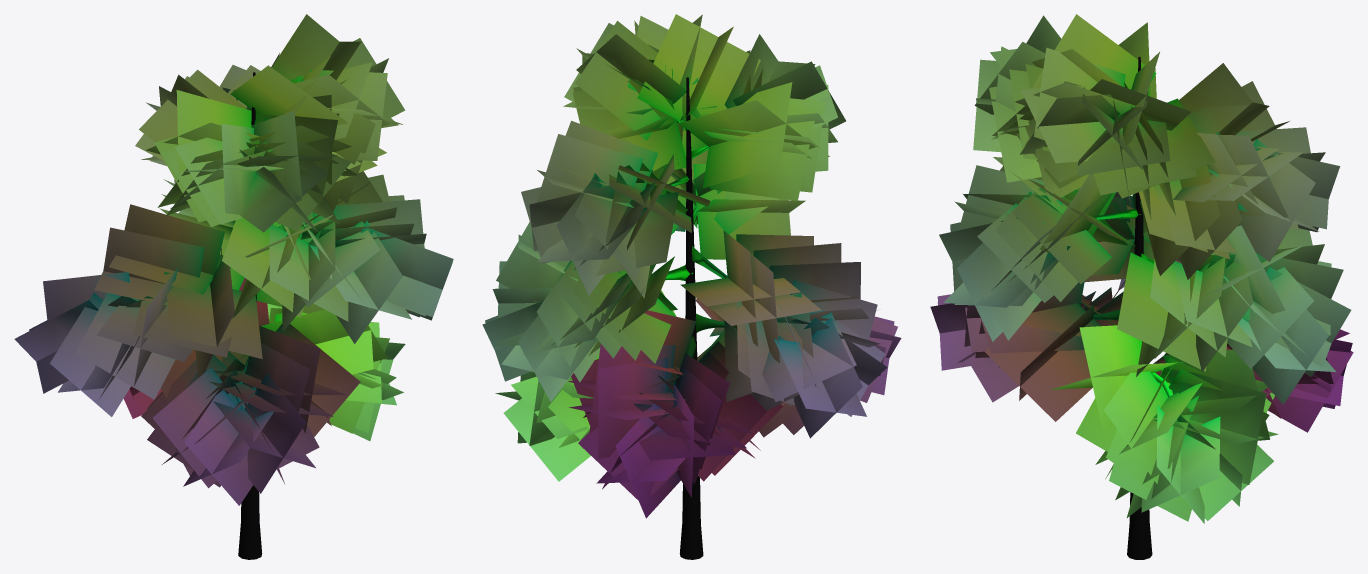
File: URP_P14_Tree_2_LOD_2.fbx
3 renders of one model, left to right at view 1: azimuth 30°, elevation 25°; view 2: azimuth 150°, elevation 25°; view 3: azimuth 270°, elevation 25°, orthographic. The views are drawn at different scales.
Visible parts, largest first — view 1: Tree_2_LOD_2; view 2: Tree_2_LOD_2; view 3: Tree_2_LOD_2.
Part boxes in pixels (x1,y1,x2,y2): Tree_2_LOD_2: [14, 14, 453, 559]; Tree_2_LOD_2: [482, 14, 901, 559]; Tree_2_LOD_2: [930, 14, 1353, 559].
Size of the model in its own units: 417 by 559 by 399.
